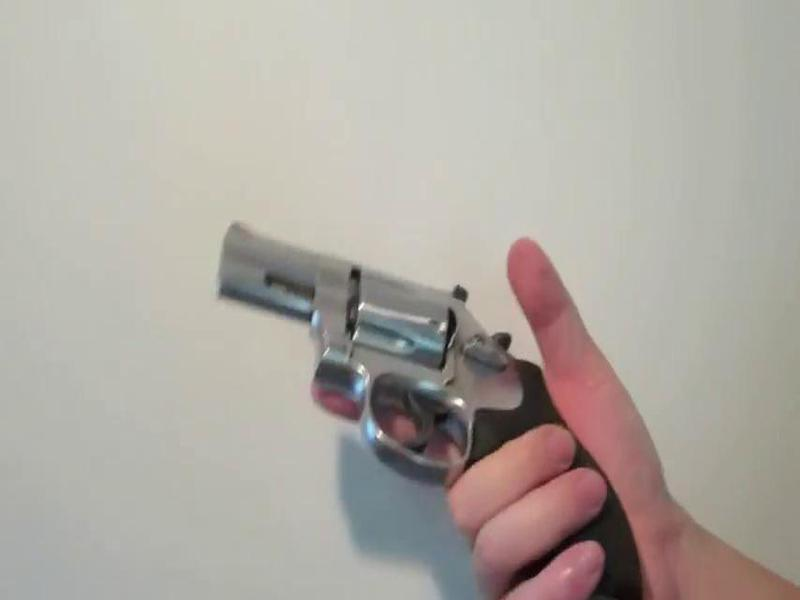Revolver: (162, 205, 654, 600)
